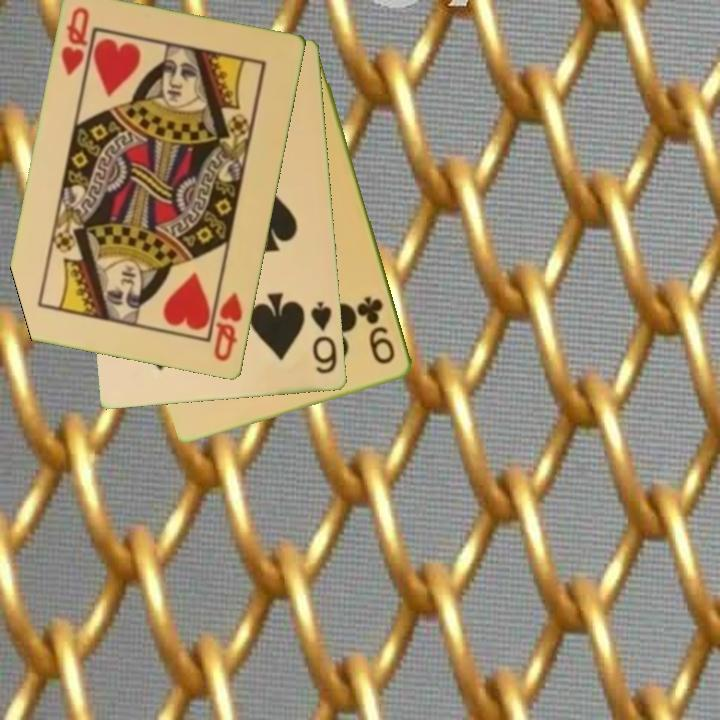6s: (308, 299, 341, 377)
9c: (356, 293, 399, 368)
Qh: (58, 4, 96, 80), (210, 289, 246, 365)
